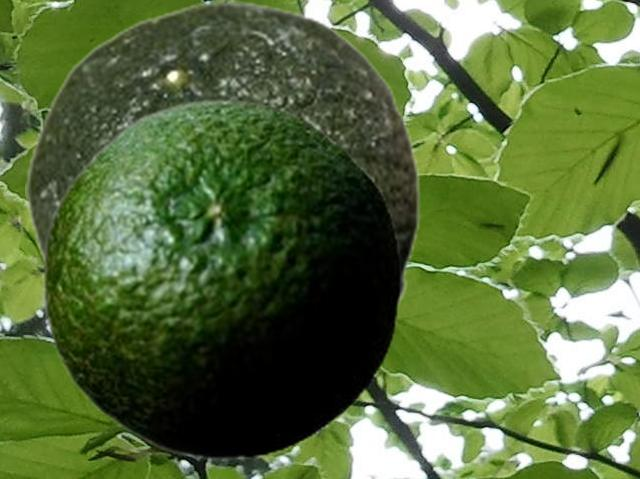calamansi: (41, 98, 400, 460), (25, 0, 420, 312)
